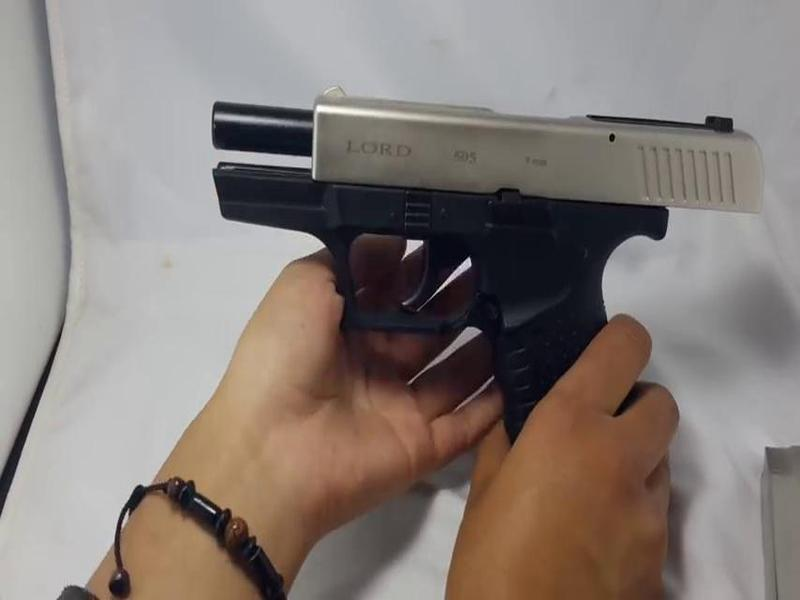Pistola: (197, 69, 757, 494)
